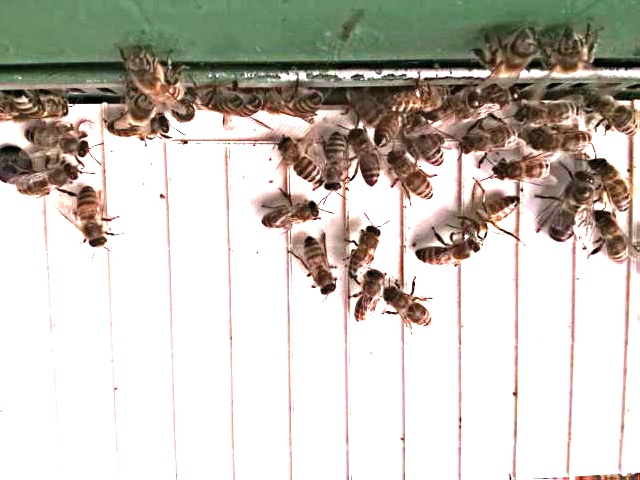Drone: (548, 169, 598, 247)
Worker: (23, 119, 94, 160), (387, 149, 438, 205), (74, 186, 114, 254), (462, 195, 526, 235), (276, 137, 326, 187), (15, 161, 79, 200), (417, 234, 482, 272), (386, 286, 438, 333), (302, 237, 341, 299), (594, 157, 636, 214), (458, 121, 524, 156), (596, 210, 632, 273), (106, 115, 174, 147), (350, 127, 383, 191), (347, 224, 384, 281), (260, 199, 322, 232), (354, 269, 389, 327), (526, 129, 594, 158), (517, 99, 585, 128), (321, 131, 351, 196), (494, 155, 555, 185)
